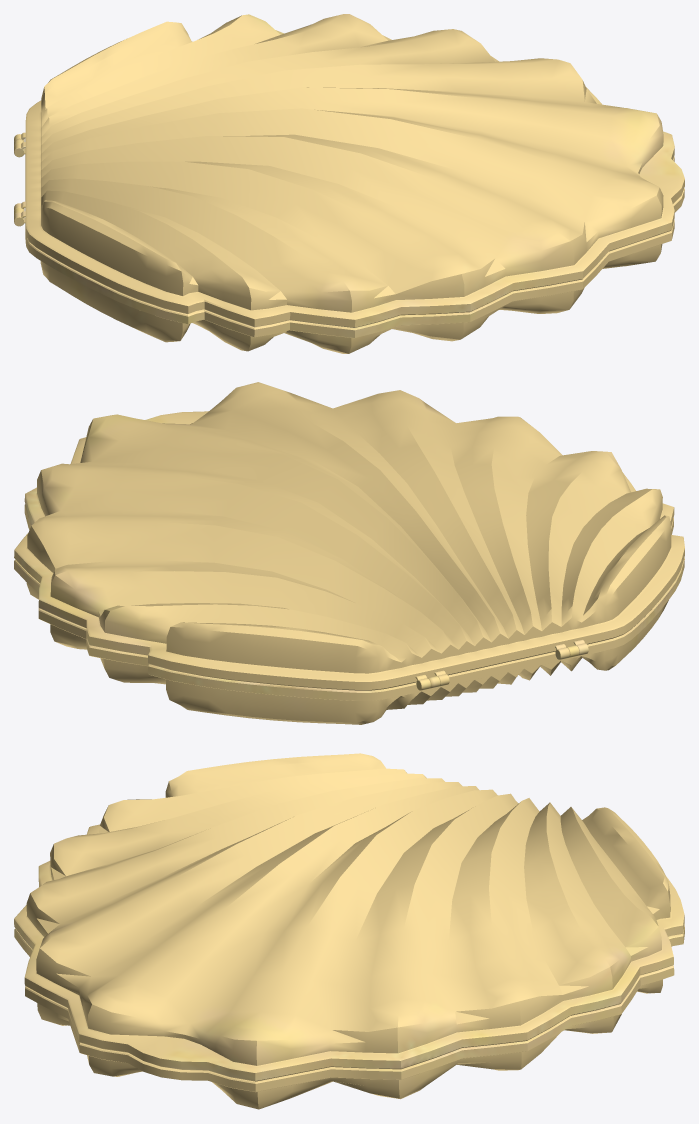
The model's file is powder-box-glass.glb.
3 renders of one model, top to bottom at view 1: azimuth 30°, elevation 25°; view 2: azimuth 150°, elevation 25°; view 3: azimuth 270°, elevation 25°, orthographic. The views are drawn at different scales.
Visible parts, largest first — view 1: powder-box-glass; view 2: powder-box-glass; view 3: powder-box-glass.
Boxes of the visible parts, x1,y1,x2,y2 form: powder-box-glass: [14, 14, 684, 353]; powder-box-glass: [14, 382, 684, 724]; powder-box-glass: [14, 753, 684, 1109].
Size of the model in its own units: 0.1225 by 0.0347 by 0.1182.
2 materials, 2 textured.
